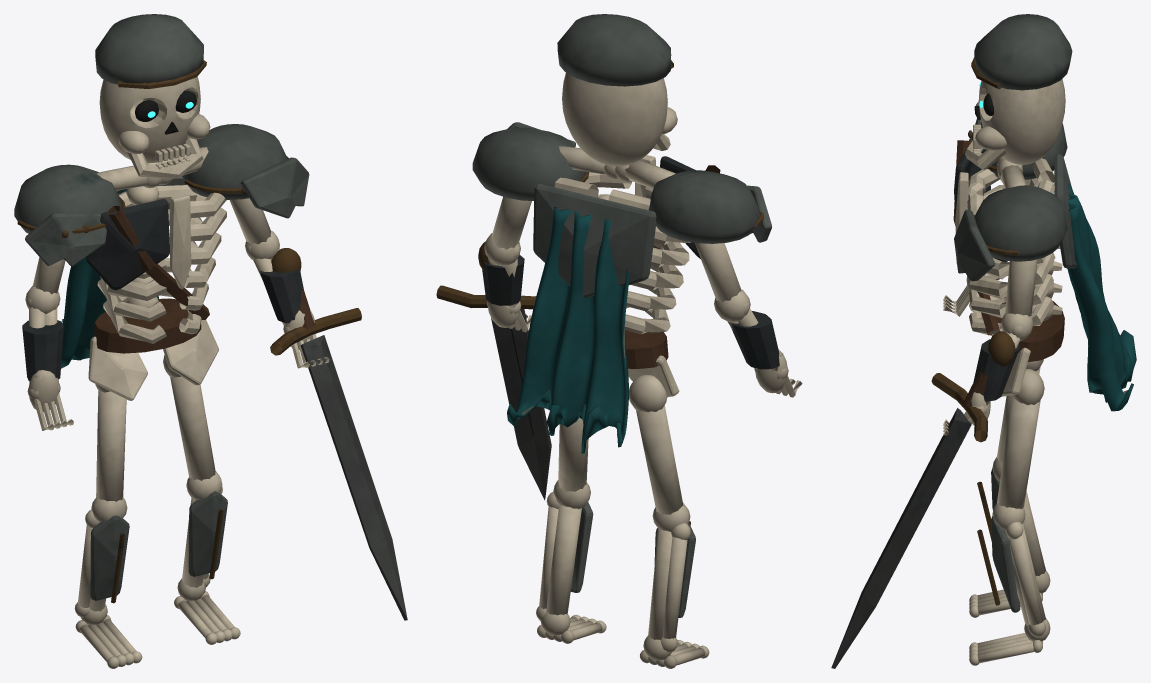
File: skeleton.glb
The picture shows the model from 3 angles, left to right: view 1: azimuth 30°, elevation 25°; view 2: azimuth 150°, elevation 25°; view 3: azimuth 270°, elevation 25°; orthographic projection. The views are drawn at different scales.
Visible parts, largest first — view 1: Body_Baked.073, Head_Baked.038, Sword_Baked.021, ArmUpperR_Baked.015, ArmUpperL_Baked.015, LegLowerL_Baked.015, LegLowerR_Baked.015, ArmLowerL_Baked.015, Cape_Baked.024, ArmLowerR_Baked.015, LegUpperL_Baked.015, LegUpperR_Baked.015; view 2: Body_Baked.073, Cape_Baked.024, Head_Baked.038, ArmUpperL_Baked.015, ArmUpperR_Baked.015, LegLowerR_Baked.015, LegLowerL_Baked.015, Sword_Baked.021, ArmLowerL_Baked.015, ArmLowerR_Baked.015, LegUpperL_Baked.015, LegUpperR_Baked.015; view 3: Head_Baked.038, Body_Baked.073, ArmUpperR_Baked.015, Sword_Baked.021, Cape_Baked.024, LegLowerR_Baked.015, LegUpperR_Baked.015, LegLowerL_Baked.015, ArmLowerR_Baked.015, ArmUpperL_Baked.015, ArmLowerL_Baked.015, LegUpperL_Baked.015.
Boxes of the visible parts, bbox=[...] form: Body_Baked.073: bbox=[86, 147, 226, 400]; Head_Baked.038: bbox=[95, 14, 210, 178]; Sword_Baked.021: bbox=[270, 248, 407, 620]; ArmUpperR_Baked.015: bbox=[182, 124, 309, 244]; ArmUpperL_Baked.015: bbox=[14, 164, 125, 294]; LegLowerL_Baked.015: bbox=[74, 497, 142, 668]; LegLowerR_Baked.015: bbox=[174, 471, 240, 644]; ArmLowerL_Baked.015: bbox=[22, 286, 73, 430]; Cape_Baked.024: bbox=[61, 189, 158, 368]; ArmLowerR_Baked.015: bbox=[245, 231, 329, 368]; LegUpperL_Baked.015: bbox=[96, 390, 126, 501]; LegUpperR_Baked.015: bbox=[170, 376, 215, 480]; Body_Baked.073: bbox=[533, 146, 720, 412]; Cape_Baked.024: bbox=[507, 207, 629, 453]; Head_Baked.038: bbox=[557, 14, 677, 166]; ArmUpperL_Baked.015: bbox=[648, 170, 771, 302]; ArmUpperR_Baked.015: bbox=[472, 122, 589, 249]; LegLowerR_Baked.015: bbox=[536, 480, 606, 643]; LegLowerL_Baked.015: bbox=[640, 502, 709, 668]; Sword_Baked.021: bbox=[436, 241, 551, 500]; ArmLowerL_Baked.015: bbox=[714, 289, 802, 397]; ArmLowerR_Baked.015: bbox=[482, 233, 531, 332]; LegUpperL_Baked.015: bbox=[636, 405, 683, 514]; LegUpperR_Baked.015: bbox=[558, 417, 588, 491]; Head_Baked.038: bbox=[965, 14, 1072, 169]; Body_Baked.073: bbox=[953, 140, 1076, 405]; ArmUpperR_Baked.015: bbox=[954, 185, 1067, 316]; Sword_Baked.021: bbox=[831, 331, 1015, 668]; Cape_Baked.024: bbox=[1067, 177, 1136, 411]; LegLowerR_Baked.015: bbox=[969, 503, 1050, 665]; LegUpperR_Baked.015: bbox=[997, 395, 1040, 509]; LegLowerL_Baked.015: bbox=[969, 457, 1050, 617]; ArmLowerR_Baked.015: bbox=[943, 312, 1033, 435]; ArmUpperL_Baked.015: bbox=[968, 118, 1067, 180]; ArmLowerL_Baked.015: bbox=[943, 258, 1007, 316]; LegUpperL_Baked.015: bbox=[997, 367, 1040, 462].
Size of the model in its own units: 1.01 by 1.79 by 0.8084.
Materials: 2 (1 with a texture image).
